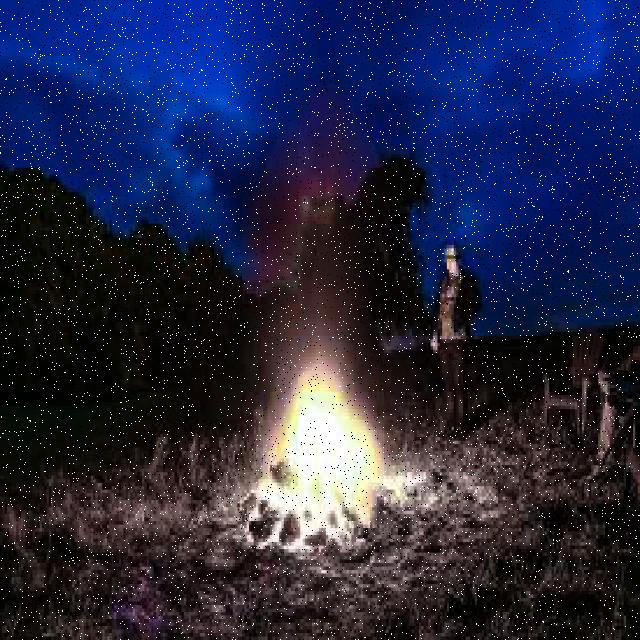fire: (264, 352, 428, 526)
